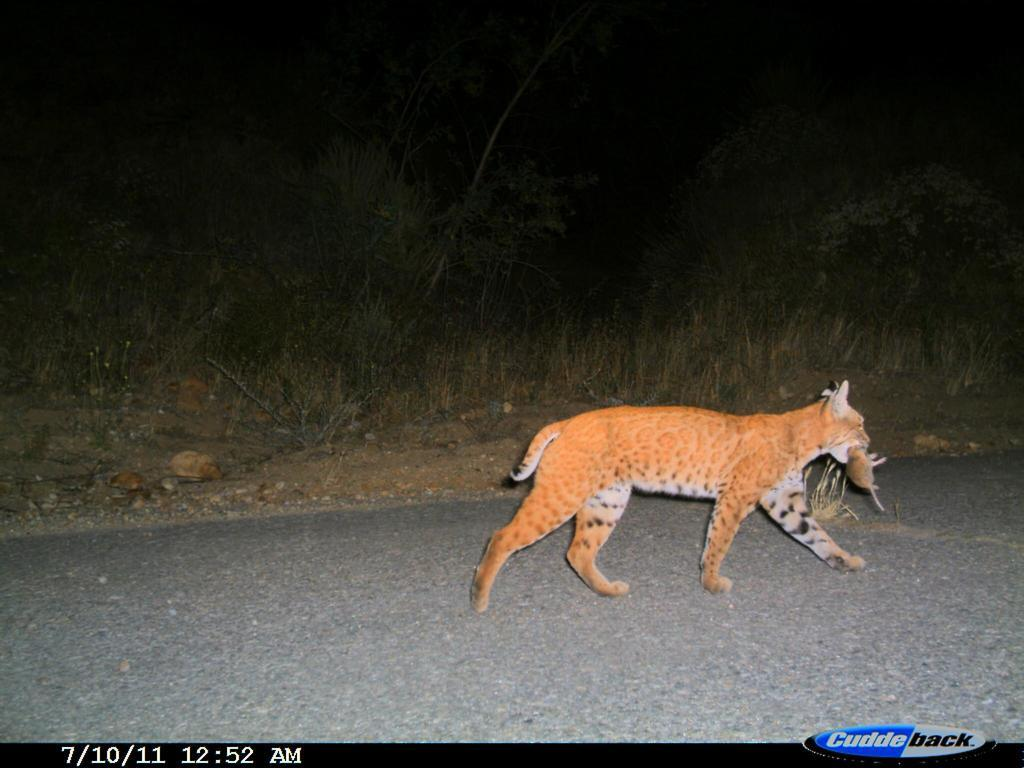bobcat: (459, 370, 897, 639)
